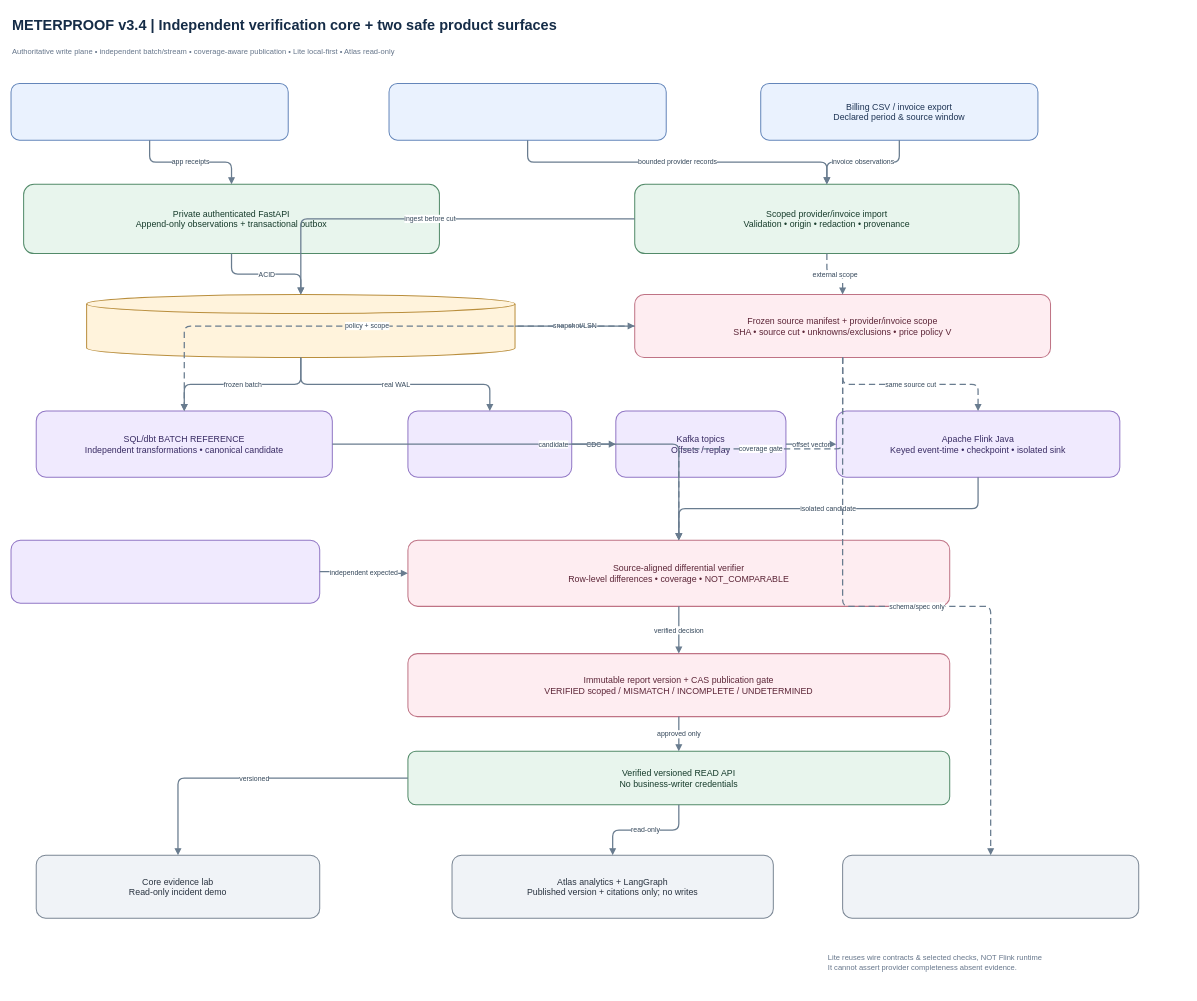
This 1197x1001 diagram has some shape labels left out. The centre of each missing label's shape, as x and y in pixels:
"Debezium Postgres WAL CDC" belongs at [489,443].
"Independent Python oracle Hand-reviewed fixture & mutation tests" belongs at [165,571].
"Lite local CLI / SDK / CI User exports • DuckDB • HTML • no cluster" belongs at [990,886].
"Owner-controlled AI application Request intents • actual provider attempts" belongs at [149,111].
"PostgreSQL source of record Intents • attempts • receipts • outbox" belongs at [300,326].
"Provider evidence Generation IDs • observed USD spend • gaps" belongs at [527,111].
